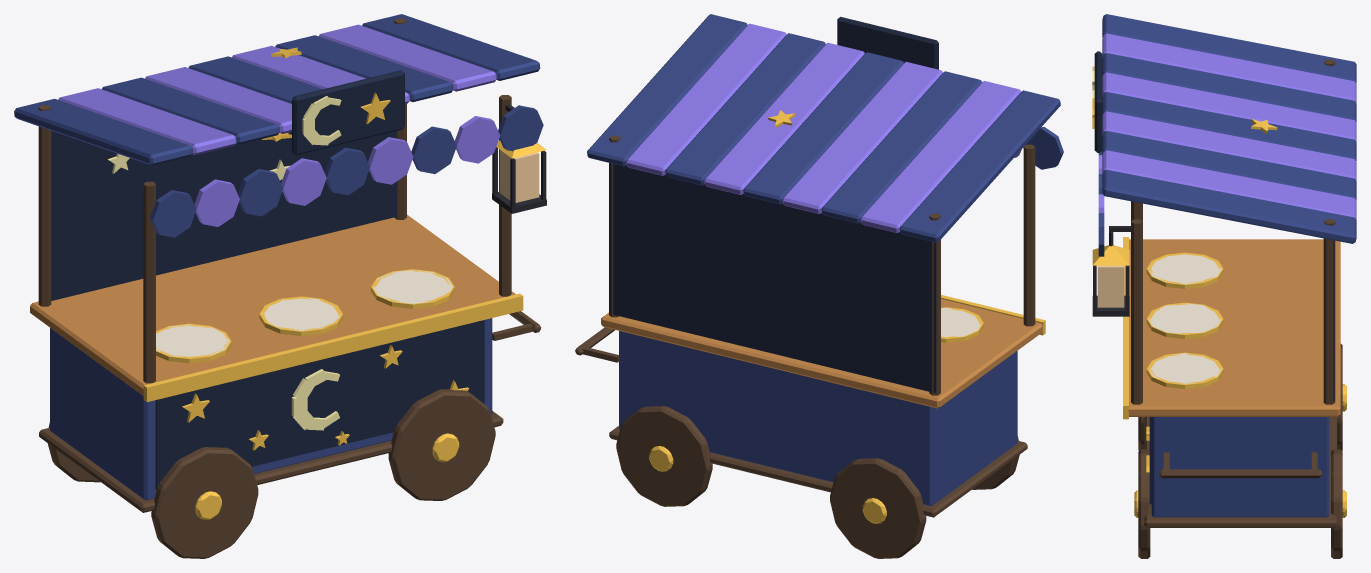
File: CatCafe_Street_DealerCart.glb
The picture shows the model from 3 angles, left to right: view 1: azimuth 30°, elevation 25°; view 2: azimuth 150°, elevation 25°; view 3: azimuth 270°, elevation 25°; orthographic projection. The views are drawn at different scales.
Parts seen in each view (by area): view 1: CatCafe_Street_DealerCart_Cart, CatCafe_Street_DealerCart_Bulb; view 2: CatCafe_Street_DealerCart_Cart; view 3: CatCafe_Street_DealerCart_Cart, CatCafe_Street_DealerCart_Bulb.
Part boxes in pixels (box(x1,y1,x2,y2)): CatCafe_Street_DealerCart_Cart: box(14, 14, 546, 558); CatCafe_Street_DealerCart_Bulb: box(499, 150, 539, 202); CatCafe_Street_DealerCart_Cart: box(575, 14, 1063, 558); CatCafe_Street_DealerCart_Cart: box(1092, 14, 1356, 558); CatCafe_Street_DealerCart_Bulb: box(1097, 265, 1124, 307).
Bounding box in the file's own units: 6.06 × 6.34 × 3.57.
1 material, 1 textured.
